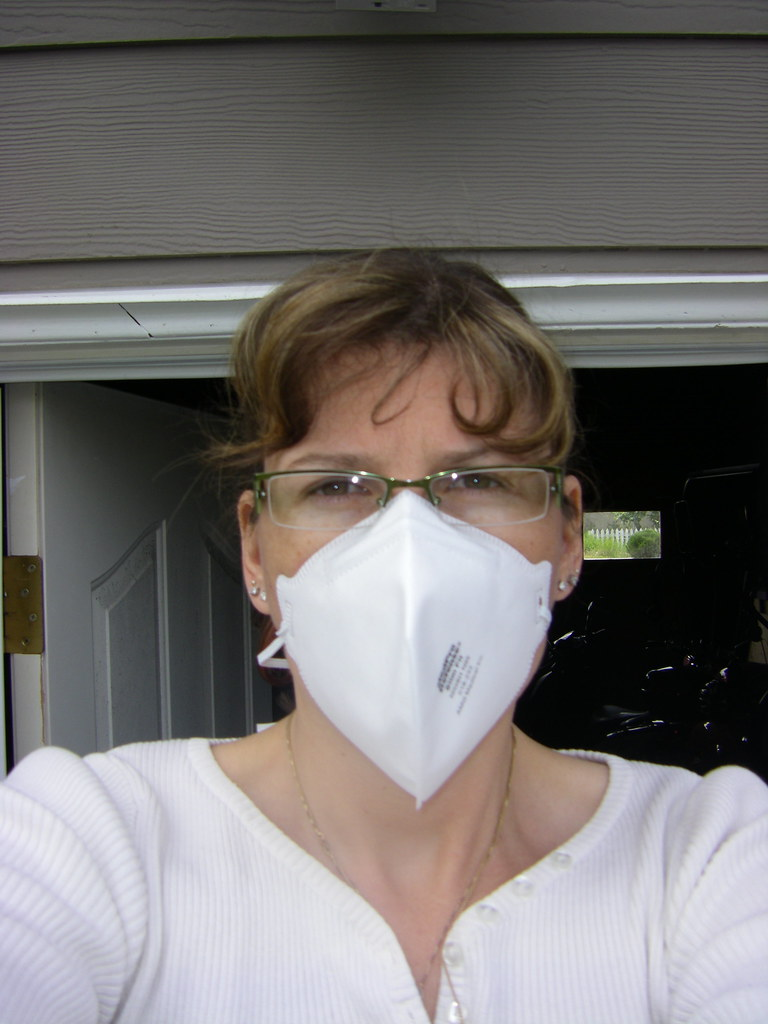n95: (244, 490, 566, 814)
